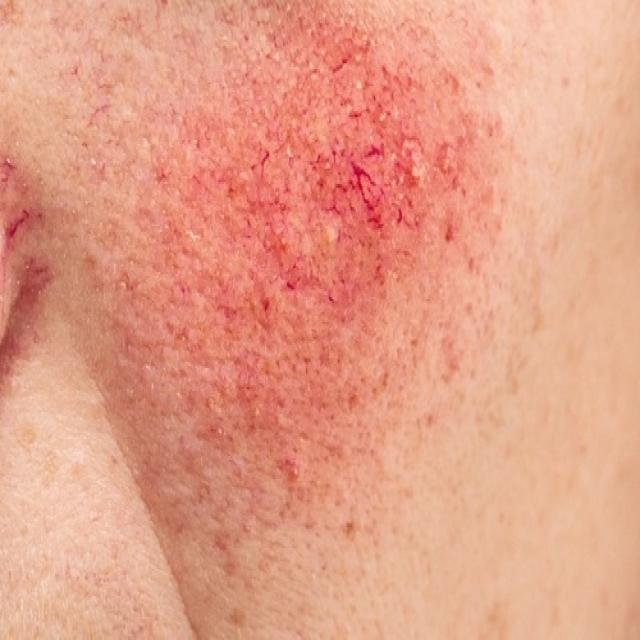Rosacea: (206, 37, 469, 361)
